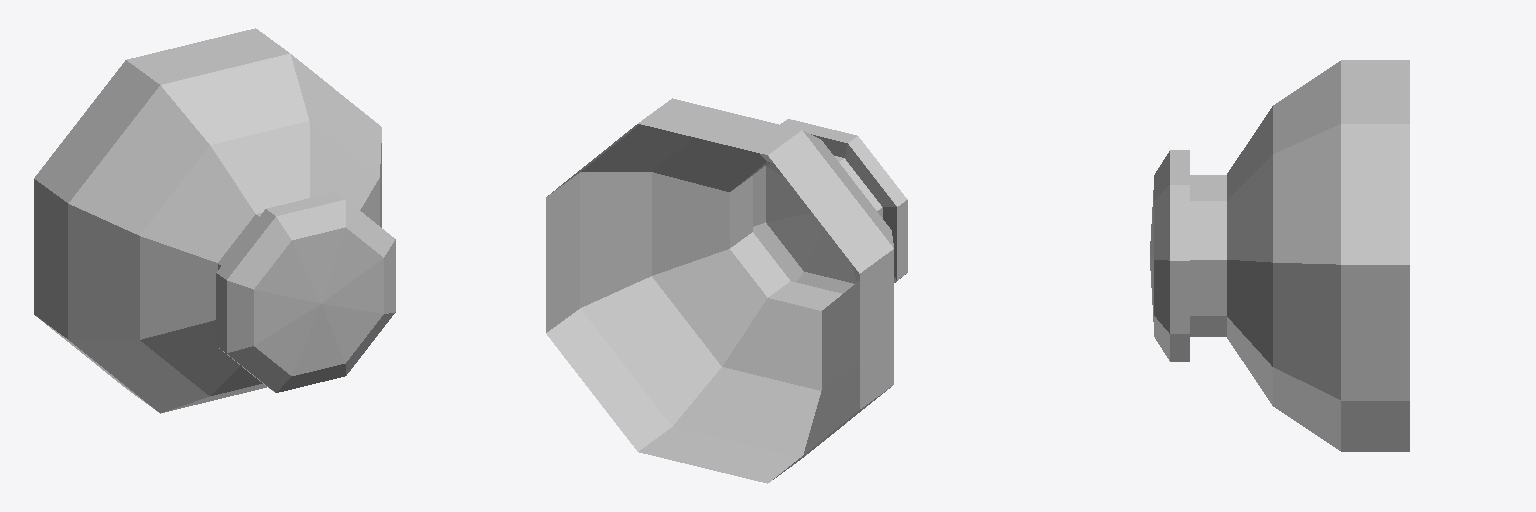
File: cruisersteering1.obj
3 renders of one model, left to right at view 1: azimuth 30°, elevation 25°; view 2: azimuth 150°, elevation 25°; view 3: azimuth 270°, elevation 25°, orthographic.
Parts seen in each view (by area): view 1: Steering; view 2: Steering; view 3: Steering.
Part boxes in pixels (bbox=[...]): Steering: bbox=[34, 28, 395, 413]; Steering: bbox=[546, 98, 907, 483]; Steering: bbox=[1150, 60, 1409, 451].
Size of the model in its own units: 0.8113 by 0.8113 by 0.5835.